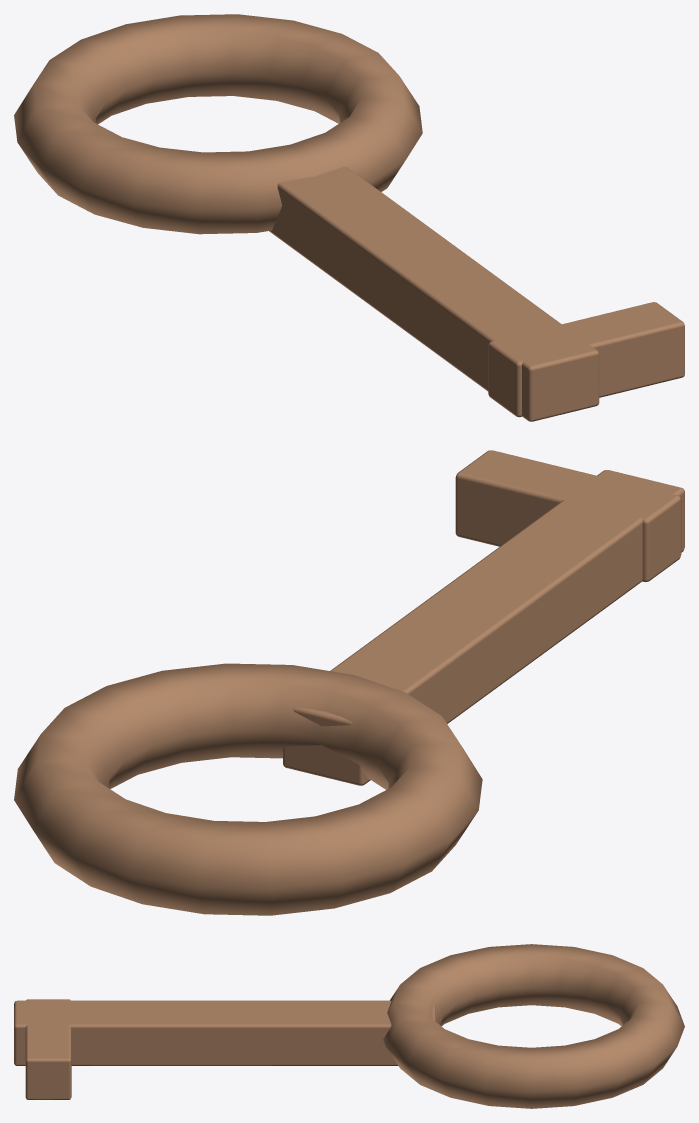
File: scavengers-loot-library-brass-key-99db6cb9__2568.glb
The picture shows the model from 3 angles, top to bottom: view 1: azimuth 30°, elevation 25°; view 2: azimuth 150°, elevation 25°; view 3: azimuth 270°, elevation 25°; orthographic projection. The views are drawn at different scales.
Parts seen in each view (by area): view 1: brass-key; view 2: brass-key; view 3: brass-key.
Part boxes in pixels (x1,y1,x2,y2): brass-key: (14,14,684,421); brass-key: (14,450,684,915); brass-key: (14,944,684,1108).
Bounding box in the file's own units: 0.04 × 0.00747 × 0.0875.
